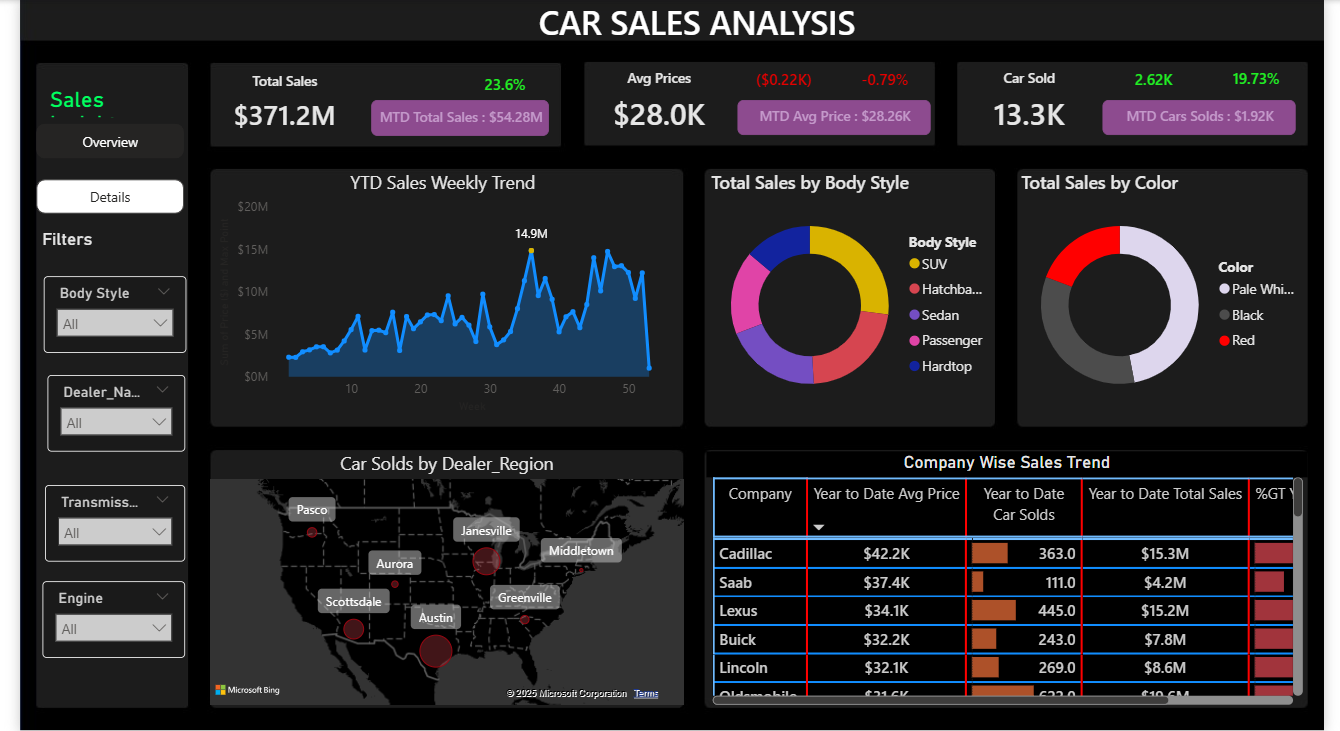

This screenshot's page, from the dashboard's own definition file:
{"tool":"powerbi","page":{"name":"Overview","canvas":[1280,720],"ordinal":0},"visuals":[{"type":"card","title":" Total Sales","fields":{"Values":["car_data.YTD Total Sales"]},"box":[190.7,69.8,139.5,73.3],"z":0},{"type":"card","fields":{"Values":["car_data.Sales Difference"]},"box":[402.5,574.2,101.8,34.4],"z":1000},{"type":"card","fields":{"Values":["car_data.YOY Sales Growth"]},"box":[425.6,67.4,101.2,34.9],"z":2000},{"type":"card","fields":{"Values":["car_data.MTD KPI"]},"box":[344.2,97.7,174.4,35],"z":3000},{"type":"card","title":" Avg Prices","fields":{"Values":["car_data.YTD Avg Price"]},"box":[555.8,67.4,143,75.6],"z":4000},{"type":"card","fields":{"Values":["car_data.Avg Price Diff"]},"box":[698.8,62.8,101.2,34.9],"z":5000},{"type":"card","fields":{"Values":["car_data.YOY Avg Price Growth"]},"box":[799.2,63.2,100.8,35.2],"z":6000},{"type":"card","fields":{"Values":["car_data.MTD Avg Price KPI"]},"box":[704.5,98.4,189.5,34],"z":7000},{"type":"card","title":" Car Sold","fields":{"Values":["car_data.YTD Car Solds"]},"box":[919.5,68,143.3,75.3],"z":8000},{"type":"card","fields":{"Values":["car_data.Cars Sold Diff"]},"box":[1062.8,63.2,100.8,35.2],"z":9000},{"type":"card","fields":{"Values":["car_data.YOY Car Sold Growth"]},"box":[1163.6,61.9,100.8,35.2],"z":10000},{"type":"card","fields":{"Values":["car_data.MTD Cars Sold KPI"]},"box":[1062.8,98.4,189.5,34],"z":11000},{"type":"areaChart","title":"YTD Sales Weekly Trend","fields":{"Category":["Calendar Table.Week"],"Y":["Sum(car_data.Price ($))","car_data.Max Point"]},"box":[190.7,166.4,449.4,242.9],"z":12000},{"type":"donutChart","title":" Total Sales by Body Style","fields":{"Category":["car_data.Body Style"],"Y":["car_data.YTD Total Sales"]},"box":[674.1,166.4,286.7,242.9],"z":13000},{"type":"donutChart","title":" Total Sales by Color","fields":{"Y":["car_data.YTD Total Sales"],"Category":["car_data.Color"]},"box":[977.8,166.4,286.7,242.9],"z":14000},{"type":"map","title":"Car Solds by Dealer_Region","fields":{"Category":["car_data.Dealer_Region"],"Size":["car_data.YTD Car Solds"]},"box":[182.2,443.3,474.9,253.9],"z":15000},{"type":"tableEx","title":"Company Wise Sales Trend","fields":{"Values":["car_data.Company","car_data.YTD Avg Price","car_data.YTD Car Solds","car_data.YTD Total Sales1","car_data.YTD Total Sales"]},"box":[674.1,443.3,590.3,253.9],"z":16000},{"type":"textbox","title":"CAR SALES ANALYSIS ","box":[504.1,0,389.9,40.1],"z":17000},{"type":"slicer","fields":{"Values":["car_data.Body Style"]},"box":[23.1,270.9,139.7,75.3],"z":18000},{"type":"slicer","fields":{"Values":["car_data.Dealer_Name"]},"box":[26.7,368,134.8,75.3],"z":19000},{"type":"slicer","fields":{"Values":["car_data.Transmission"]},"box":[24.3,476.1,137.3,75.3],"z":20000},{"type":"slicer","fields":{"Values":["car_data.Engine"]},"box":[21.9,570.9,139.7,75.3],"z":21000},{"type":"textbox","title":"Filters","box":[17,224.7,149.4,20.6],"z":22000},{"type":"textbox","title":"Sales Insight","box":[24.6,84.8,138.4,30.1],"z":23000},{"type":"pageNavigator","box":[15.8,121.5,145.8,89.9],"z":24000}]}

Visuals, with their boxes on the page's 1280x720 design canvas (x1, y1, x2, y2). These are canvas units, not pixel positions in the 1340x731 screenshot, which may show the page scaled, cropped or inside an application window:
" Total Sales" card: [x1=191, y1=70, x2=330, y2=143]
card - car_data.Sales Difference: [x1=402, y1=574, x2=504, y2=609]
card - car_data.YOY Sales Growth: [x1=426, y1=67, x2=527, y2=102]
card - car_data.MTD KPI: [x1=344, y1=98, x2=519, y2=133]
" Avg Prices" card: [x1=556, y1=67, x2=699, y2=143]
card - car_data.Avg Price Diff: [x1=699, y1=63, x2=800, y2=98]
card - car_data.YOY Avg Price Growth: [x1=799, y1=63, x2=900, y2=98]
card - car_data.MTD Avg Price KPI: [x1=704, y1=98, x2=894, y2=132]
" Car Sold" card: [x1=920, y1=68, x2=1063, y2=143]
card - car_data.Cars Sold Diff: [x1=1063, y1=63, x2=1164, y2=98]
card - car_data.YOY Car Sold Growth: [x1=1164, y1=62, x2=1264, y2=97]
card - car_data.MTD Cars Sold KPI: [x1=1063, y1=98, x2=1252, y2=132]
"YTD Sales Weekly Trend" areaChart: [x1=191, y1=166, x2=640, y2=409]
" Total Sales by Body Style" donutChart: [x1=674, y1=166, x2=961, y2=409]
" Total Sales by Color" donutChart: [x1=978, y1=166, x2=1264, y2=409]
"Car Solds by Dealer_Region" map: [x1=182, y1=443, x2=657, y2=697]
"Company Wise Sales Trend" tableEx: [x1=674, y1=443, x2=1264, y2=697]
"CAR SALES ANALYSIS " textbox: [x1=504, y1=0, x2=894, y2=40]
slicer - car_data.Body Style: [x1=23, y1=271, x2=163, y2=346]
slicer - car_data.Dealer_Name: [x1=27, y1=368, x2=162, y2=443]
slicer - car_data.Transmission: [x1=24, y1=476, x2=162, y2=551]
slicer - car_data.Engine: [x1=22, y1=571, x2=162, y2=646]
"Filters" textbox: [x1=17, y1=225, x2=166, y2=245]
"Sales Insight" textbox: [x1=25, y1=85, x2=163, y2=115]
pageNavigator: [x1=16, y1=122, x2=162, y2=211]
